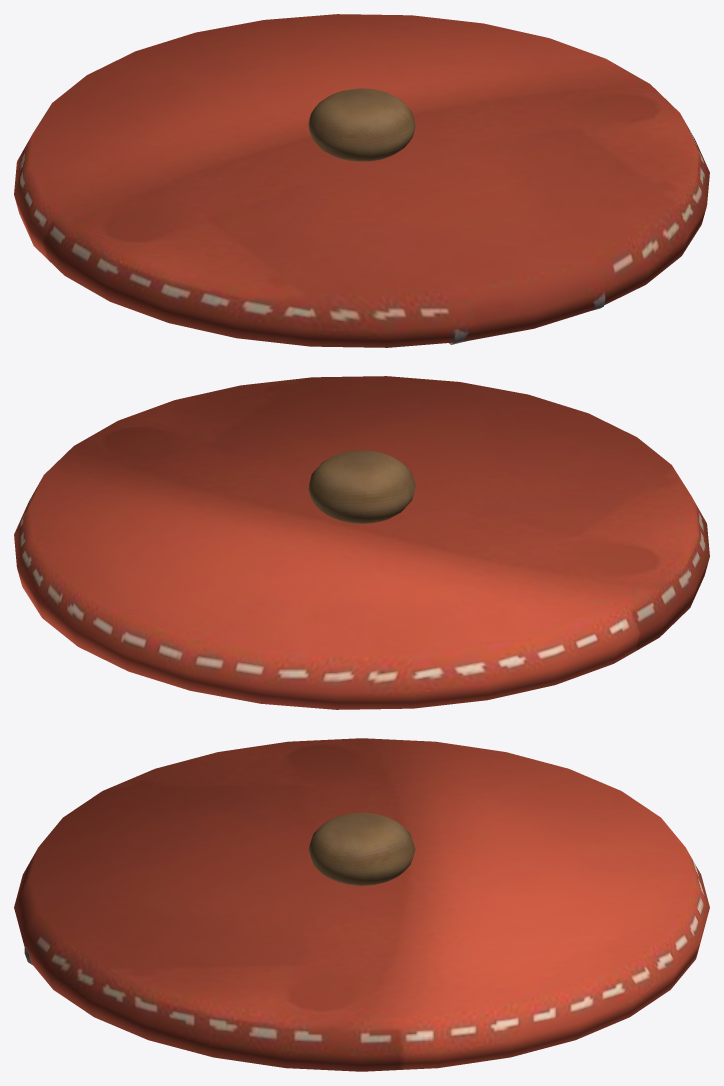
The model's file is giant_vapor_lid.glb.
3 views of the same model, one above another, from view 1: azimuth 30°, elevation 25°; view 2: azimuth 150°, elevation 25°; view 3: azimuth 270°, elevation 25° (orthographic).
Visible parts, largest first — view 1: prop_giant_vapor_lid_felt, prop_giant_vapor_lid_wood; view 2: prop_giant_vapor_lid_felt, prop_giant_vapor_lid_wood; view 3: prop_giant_vapor_lid_felt, prop_giant_vapor_lid_wood.
Part boxes in pixels (x1,y1,x2,y2): prop_giant_vapor_lid_felt: (14, 14, 709, 347); prop_giant_vapor_lid_wood: (308, 88, 415, 161); prop_giant_vapor_lid_felt: (14, 376, 709, 709); prop_giant_vapor_lid_wood: (308, 450, 415, 523); prop_giant_vapor_lid_felt: (14, 738, 709, 1071); prop_giant_vapor_lid_wood: (308, 812, 415, 885).
Bounding box in the file's own units: 1.3 × 0.2285 × 1.3.
Materials: 2 (2 with a texture image).
